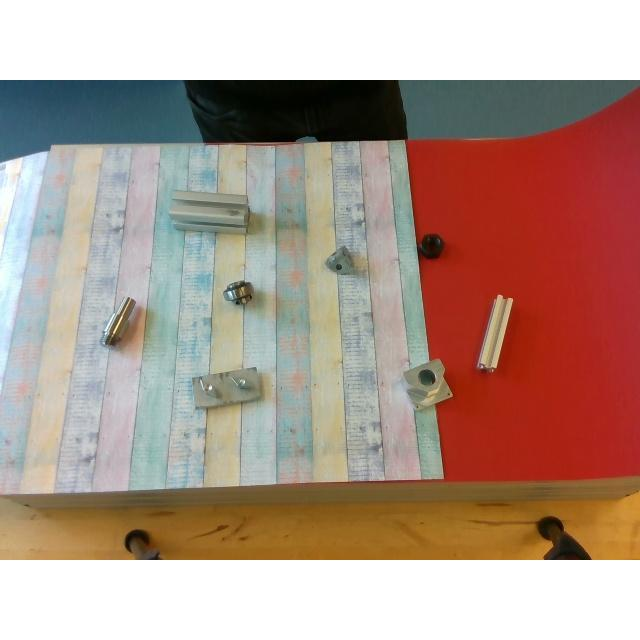Axis2: (102, 296, 134, 344)
Bearing2: (222, 280, 258, 306)
F20_20_G: (478, 294, 512, 370)
M20: (420, 233, 444, 257)
S40_40_G: (168, 190, 248, 232)
